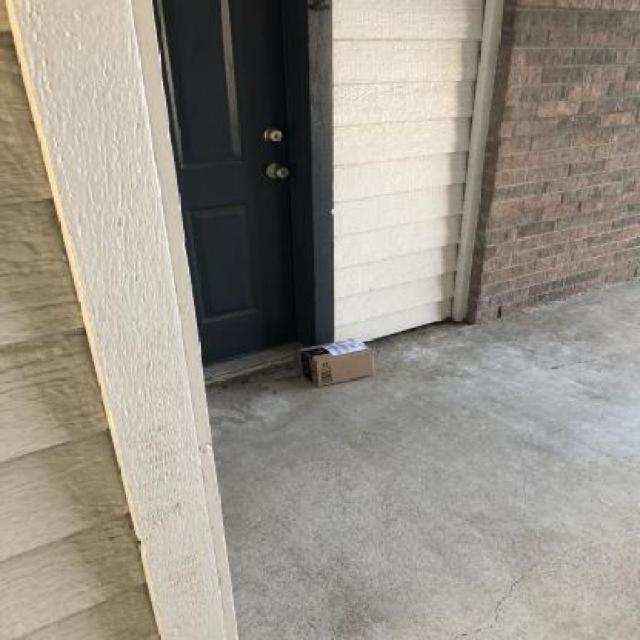cardboxes: (289, 335, 382, 390)
